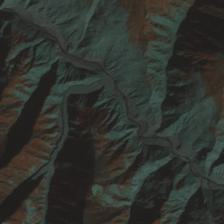landslides: (173, 8, 188, 16)
